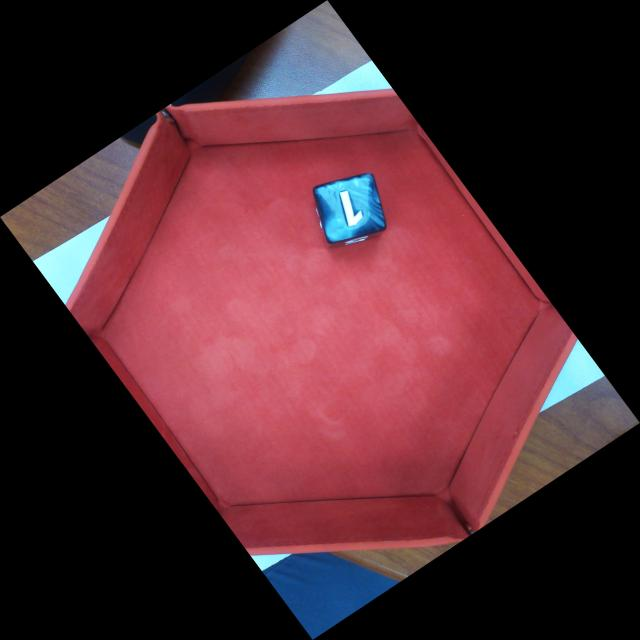dice: (315, 175, 391, 242)
